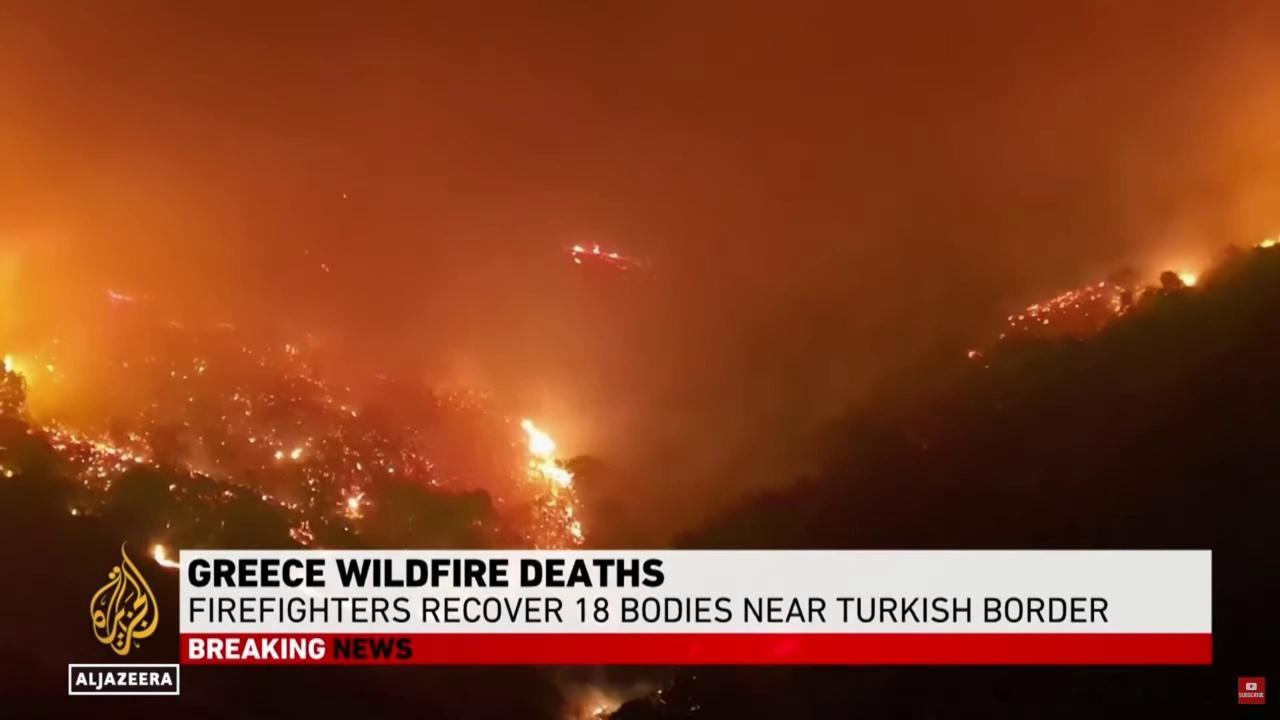fire: (515, 417, 591, 549), (41, 417, 155, 492), (1008, 277, 1129, 331), (568, 240, 636, 267), (336, 484, 371, 519), (147, 543, 180, 570), (287, 519, 315, 547), (108, 287, 133, 305), (1176, 270, 1199, 289), (187, 463, 210, 480), (587, 702, 610, 717), (0, 462, 18, 481), (191, 359, 210, 376), (232, 392, 252, 407), (2, 353, 14, 376), (1252, 237, 1276, 248), (965, 348, 985, 360), (283, 343, 301, 356), (288, 446, 303, 460), (280, 499, 297, 510), (272, 449, 286, 459), (70, 506, 80, 517), (308, 477, 321, 485), (46, 362, 54, 374), (263, 494, 275, 502), (167, 482, 176, 492), (224, 490, 233, 499), (351, 410, 360, 418), (247, 437, 257, 444), (356, 461, 363, 471), (388, 467, 396, 475), (339, 404, 348, 411), (244, 411, 252, 418), (305, 442, 313, 448), (379, 458, 385, 466), (310, 497, 314, 508), (308, 435, 314, 441), (297, 419, 303, 425), (166, 522, 171, 528), (310, 487, 316, 492), (219, 441, 225, 446), (279, 441, 284, 447), (269, 441, 274, 446), (272, 428, 277, 433), (342, 458, 347, 463), (344, 527, 349, 532), (216, 459, 220, 464), (222, 416, 227, 420)
smoke: (0, 0, 1280, 550)
